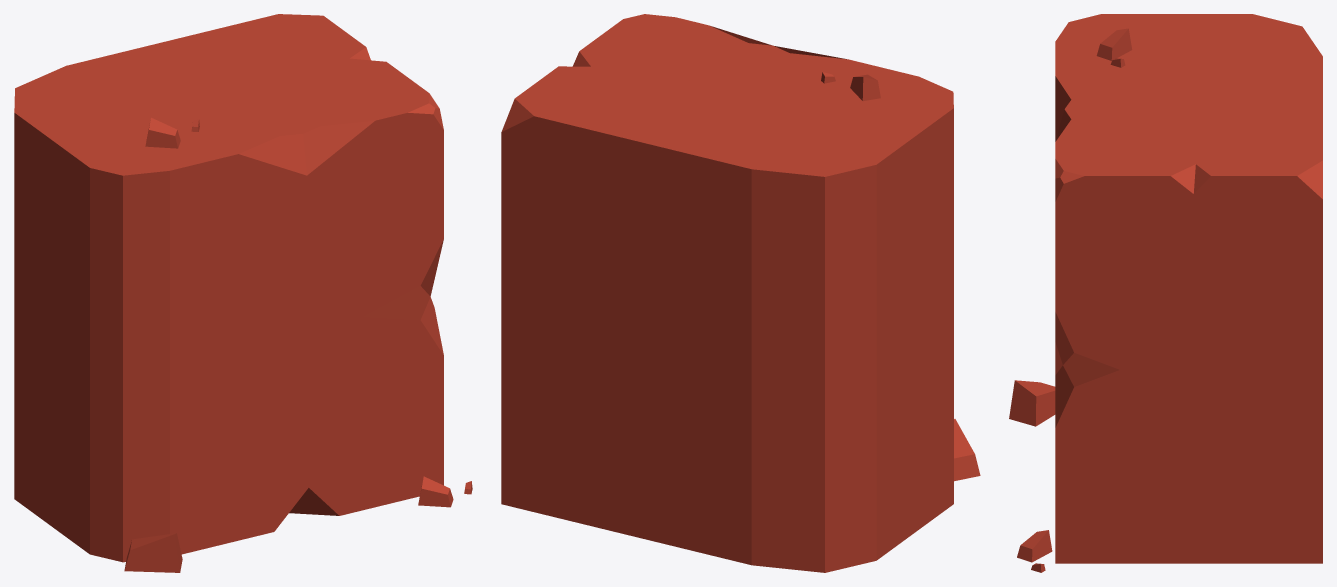
The model's file is Boulder.fbx.
3 renders of one model, left to right at view 1: azimuth 30°, elevation 25°; view 2: azimuth 150°, elevation 25°; view 3: azimuth 270°, elevation 25°, orthographic. The views are drawn at different scales.
Parts seen in each view (by area): view 1: Boulder; view 2: Boulder; view 3: Boulder.
Part boxes in pixels (box(x1,y1,x2,y2)): Boulder: box(14, 14, 472, 572); Boulder: box(501, 14, 980, 572); Boulder: box(1009, 14, 1322, 572).
Bounding box in the file's own units: 153 × 169 × 117.
Materials: 1 (1 with a texture image).
